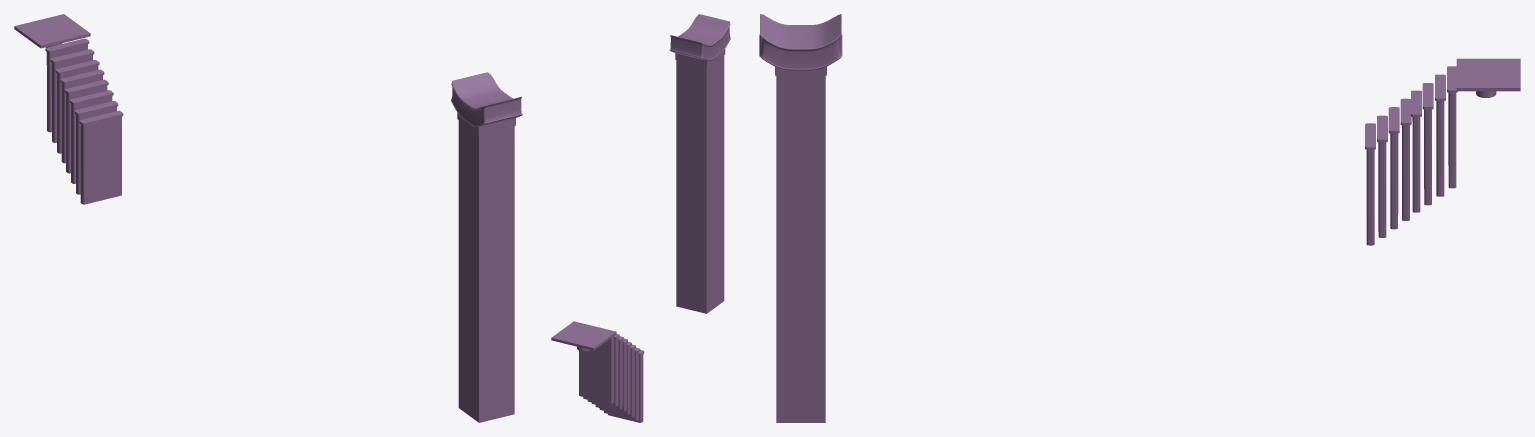
File: Steps_column_Low.fbx
3 renders of one model, left to right at view 1: azimuth 30°, elevation 25°; view 2: azimuth 150°, elevation 25°; view 3: azimuth 270°, elevation 25°, orthographic. The views are drawn at different scales.
Visible parts, largest first — view 1: Loka_Ankh_2_2:square_column_Low, Steps_Low, Boards_Steps_Low; view 2: Loka_Ankh_2_2:square_column_Low, Steps_Low, Boards_Steps_Low; view 3: Loka_Ankh_2_2:square_column_Low, Steps_Low, Boards_Steps_Low.
Part boxes in pixels (x1,y1,x2,y2): Loka_Ankh_2_2:square_column_Low: (451,72,522,422); Steps_Low: (45,38,123,204); Boards_Steps_Low: (14,14,90,48); Loka_Ankh_2_2:square_column_Low: (669,14,730,313); Steps_Low: (579,334,644,422); Boards_Steps_Low: (551,321,616,351); Loka_Ankh_2_2:square_column_Low: (759,14,842,422); Steps_Low: (1365,66,1457,245); Boards_Steps_Low: (1456,58,1520,97).
Size of the model in its own units: 989 by 1567 by 2783.
